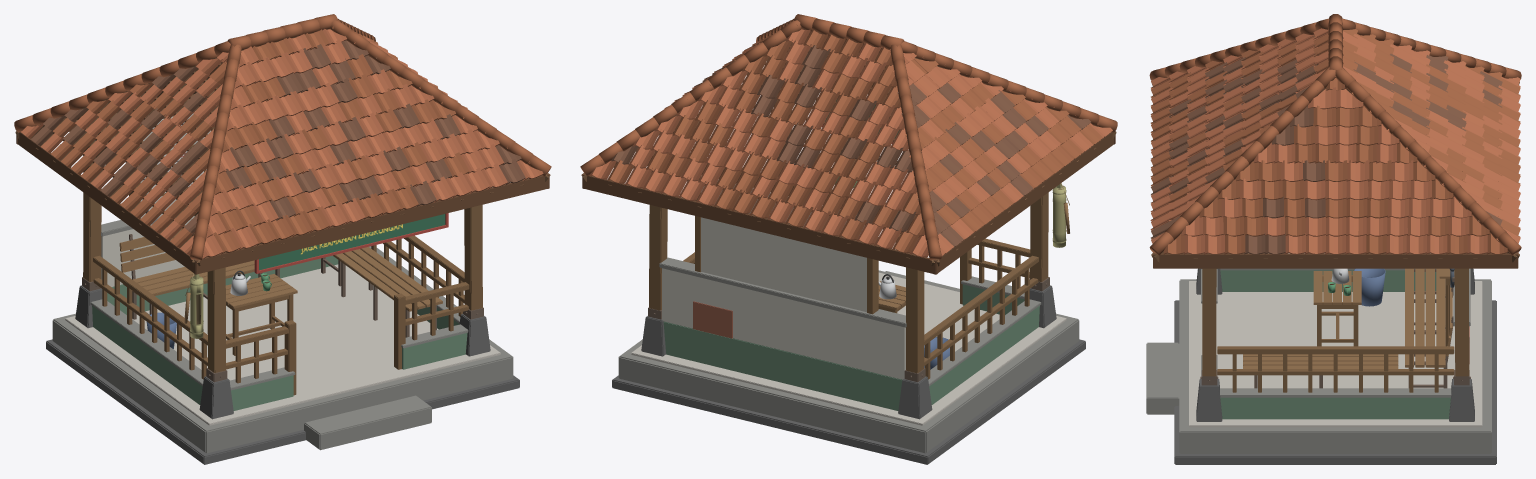
Rendered from indonesian_village_security_post_-_pos_ronda.glb.
The picture shows the model from 3 angles, left to right: view 1: azimuth 30°, elevation 25°; view 2: azimuth 150°, elevation 25°; view 3: azimuth 270°, elevation 25°; orthographic projection.
Parts seen in each view (by area): view 1: Pos_Ronda_RT03; view 2: Pos_Ronda_RT03; view 3: Pos_Ronda_RT03.
Part boxes in pixels (x1,y1,x2,y2): Pos_Ronda_RT03: [14, 14, 551, 464]; Pos_Ronda_RT03: [580, 14, 1117, 464]; Pos_Ronda_RT03: [1146, 14, 1521, 464].
Bounding box in the file's own units: 4.36 × 3.94 × 3.87.
